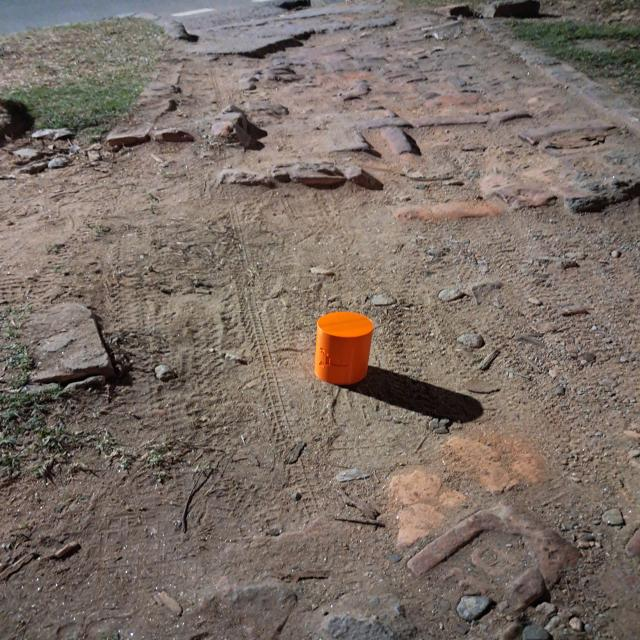Cylinder: (312, 310, 374, 386)
